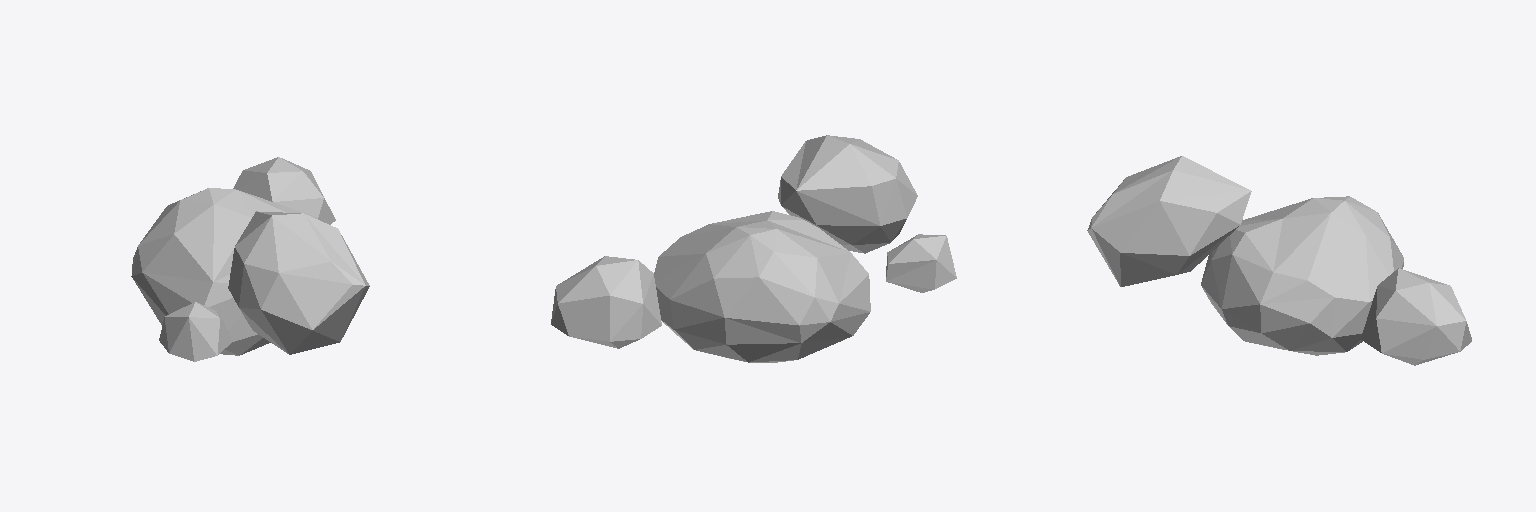
File: Rock.obj
3 views of the same model, side by side, from view 1: azimuth 30°, elevation 25°; view 2: azimuth 150°, elevation 25°; view 3: azimuth 270°, elevation 25° (orthographic).
Visible parts, largest first — view 1: Sphere.001, Sphere, Icosphere, Icosphere.001; view 2: Sphere, Sphere.001, Icosphere, Icosphere.001; view 3: Sphere, Sphere.001, Icosphere.
Part boxes in pixels (x1,y1,x2,y2): Sphere.001: (228,211,369,354); Sphere: (131,188,316,355); Icosphere: (233,157,335,224); Icosphere.001: (159,302,232,361); Sphere: (654,211,870,362); Sphere.001: (778,135,917,253); Icosphere: (551,256,661,348); Icosphere.001: (886,234,956,292); Sphere: (1201,196,1403,355); Sphere.001: (1087,156,1251,286); Icosphere: (1361,268,1471,365).
Bounding box in the file's own units: 1.2 × 0.7004 × 1.45.